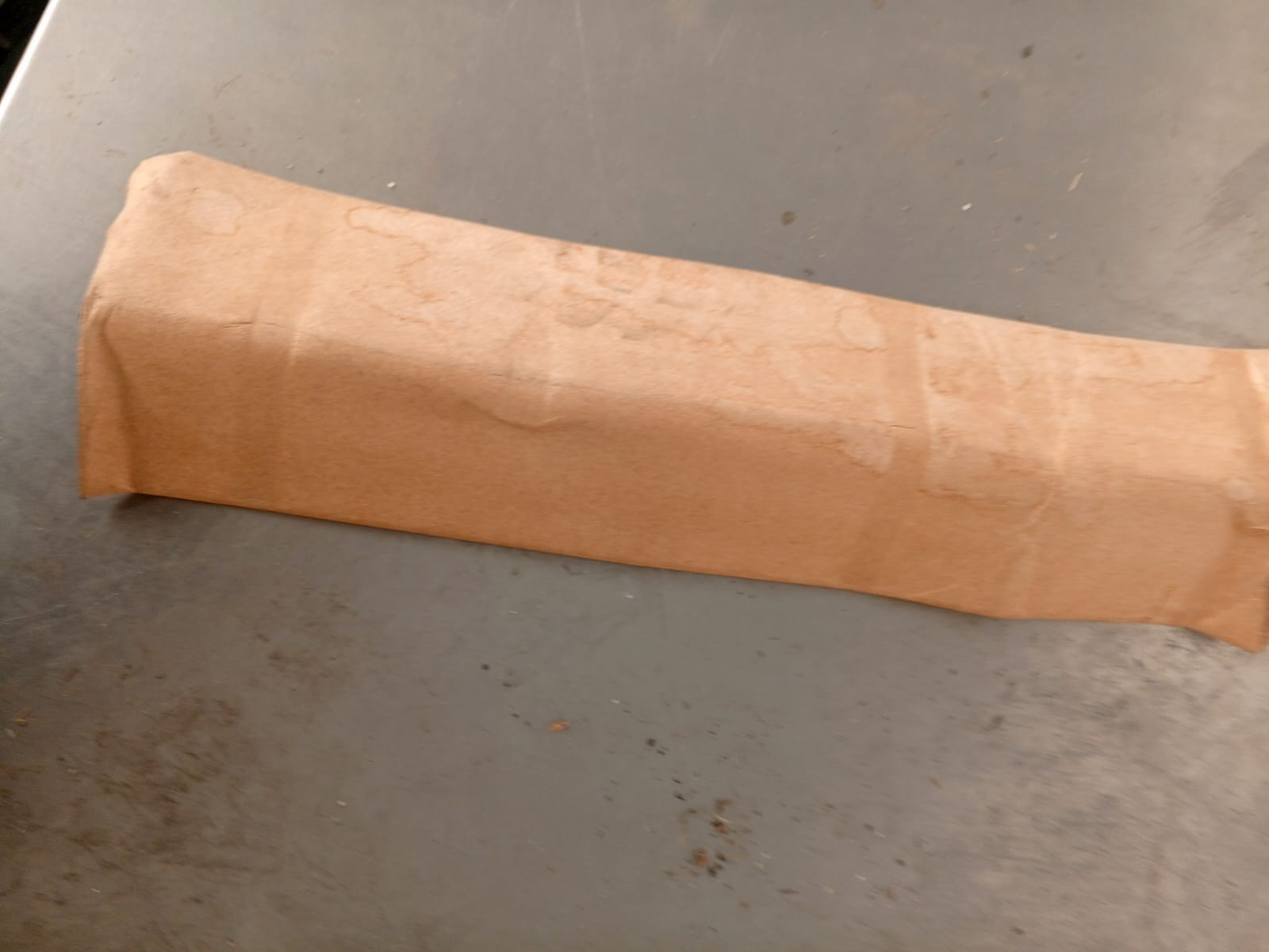Carton: (78, 151, 1269, 652)
